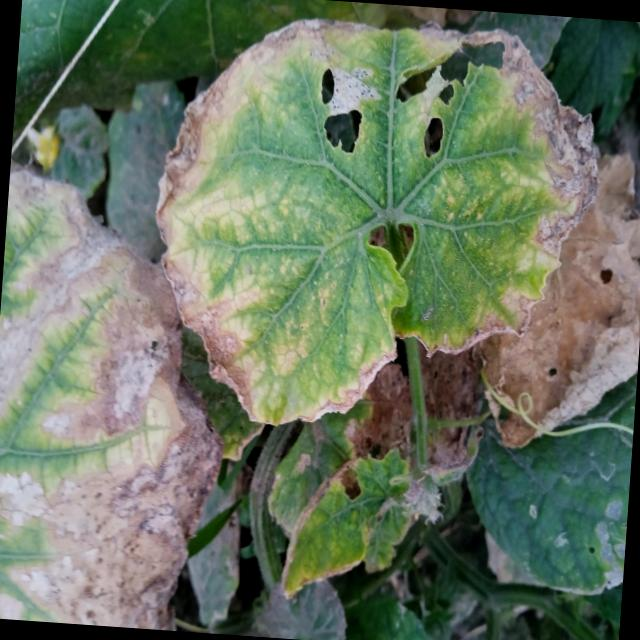cucumber_gummy: (141, 0, 595, 442), (0, 150, 243, 633), (463, 75, 640, 475), (339, 310, 495, 532), (272, 456, 438, 616)
